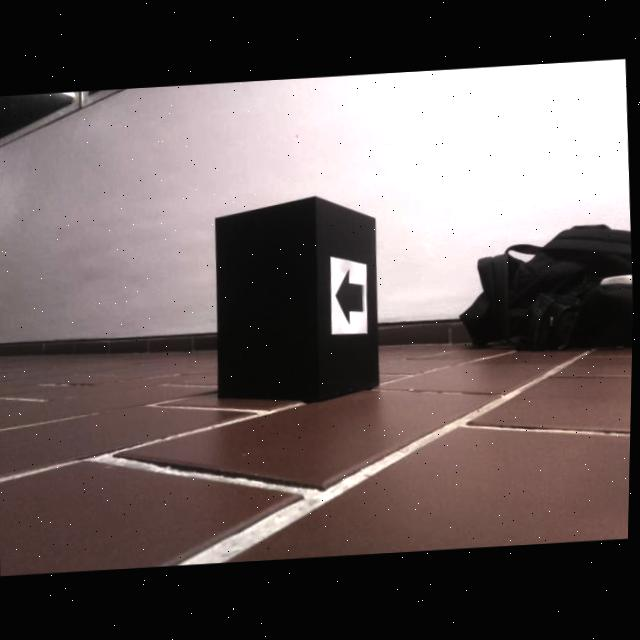LEFT: (337, 268, 365, 326)
